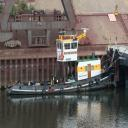tugboat: (7, 28, 121, 100)
